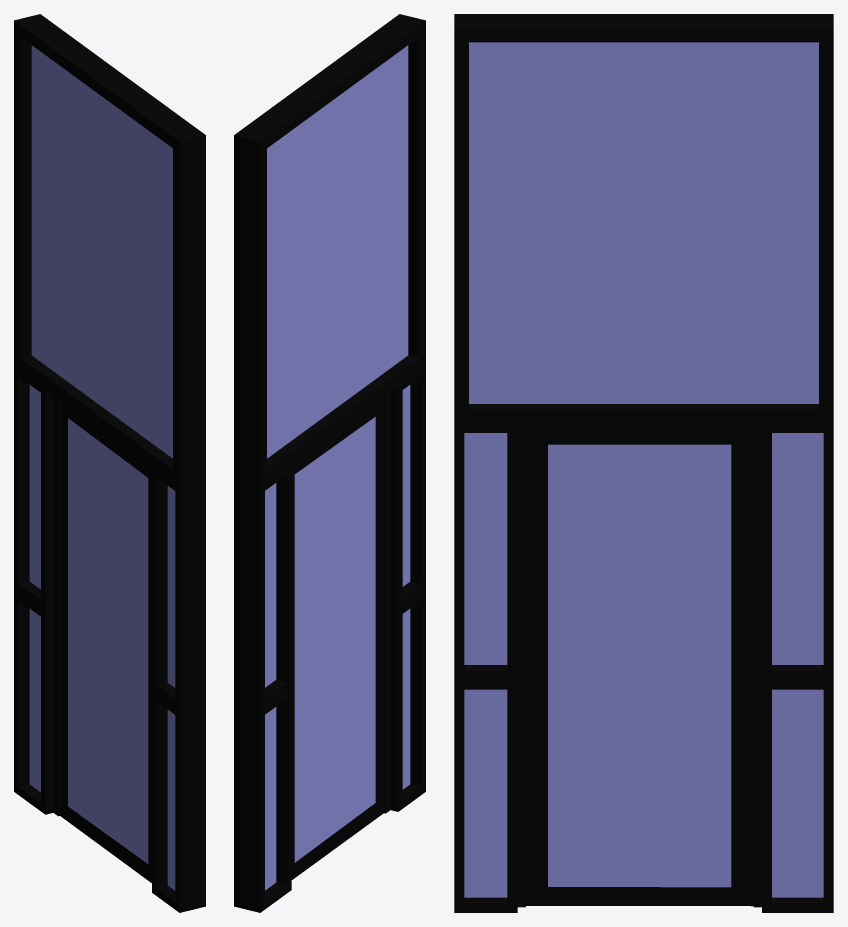
Rendered from glass-door.fbx.
The picture shows the model from 3 angles, left to right: view 1: azimuth 30°, elevation 25°; view 2: azimuth 150°, elevation 25°; view 3: azimuth 270°, elevation 25°; orthographic projection. The views are drawn at different scales.
Visible parts, largest first — view 1: door-plate-head-glass, Panel, door-plate-frame, door-plate-head-frame, door-plate-glass, GlassDoor; view 2: door-plate-head-glass, Panel, door-plate-frame, door-plate-head-frame, door-plate-glass, GlassDoor; view 3: door-plate-head-glass, Panel, door-plate-glass, door-plate-head-frame, door-plate-frame, GlassDoor.
Part boxes in pixels (bbox=[...]): door-plate-head-glass: bbox=[31, 45, 172, 458]; Panel: bbox=[60, 400, 151, 882]; door-plate-frame: bbox=[14, 365, 205, 912]; door-plate-head-frame: bbox=[14, 14, 205, 485]; door-plate-glass: bbox=[29, 385, 175, 890]; GlassDoor: bbox=[53, 394, 151, 816]; door-plate-head-glass: bbox=[267, 45, 408, 458]; Panel: bbox=[291, 397, 383, 879]; door-plate-frame: bbox=[234, 365, 425, 912]; door-plate-head-frame: bbox=[234, 14, 425, 485]; door-plate-glass: bbox=[265, 385, 410, 890]; GlassDoor: bbox=[291, 391, 390, 813]; door-plate-head-glass: bbox=[469, 42, 818, 403]; Panel: bbox=[528, 427, 750, 905]; door-plate-glass: bbox=[464, 433, 823, 897]; door-plate-head-frame: bbox=[454, 14, 833, 423]; door-plate-frame: bbox=[454, 423, 833, 912]; GlassDoor: bbox=[517, 423, 761, 907].
Size of the model in its own units: 10.01 by 280 by 109.
